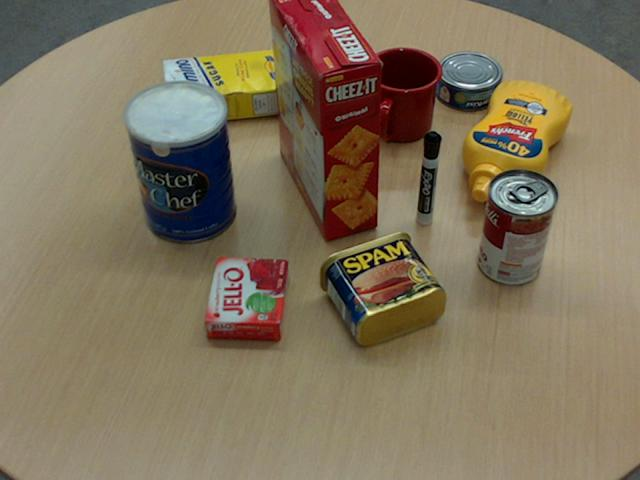cracker_box: (269, 0, 380, 239)
gelatin_box: (204, 255, 289, 339)
large_marker: (417, 131, 441, 224)
master_chef_can: (124, 80, 235, 243)
mug: (364, 47, 442, 141)
mustard_bottle: (461, 81, 570, 202)
potted_meat_can: (318, 230, 445, 344)
sugar_box: (161, 46, 309, 124)
tomato_soup_can: (478, 168, 557, 284)
tuna_fish_can: (433, 51, 501, 110)
